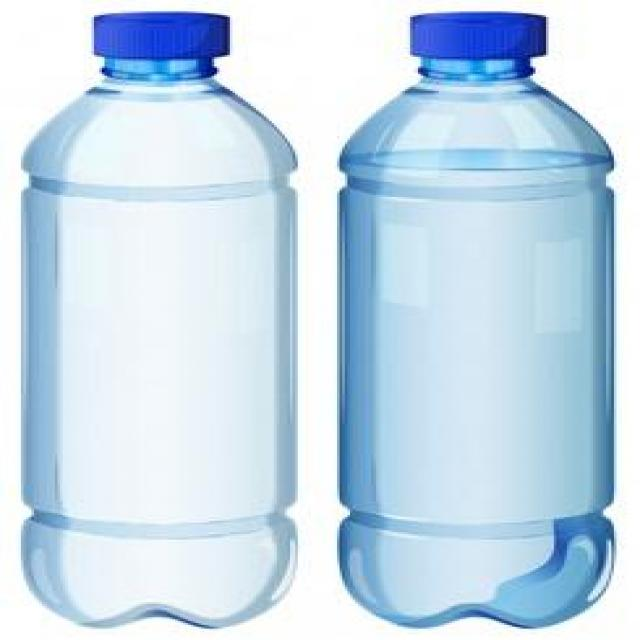plastic_bottle: (19, 16, 307, 622), (342, 13, 613, 623)
